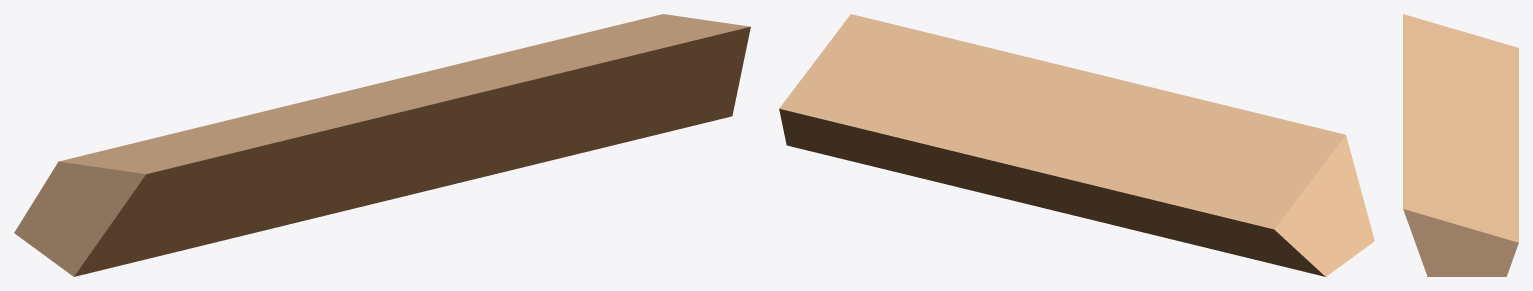
Rendered from Pine_Firewood_05_LOD.fbx.
The picture shows the model from 3 angles, left to right: view 1: azimuth 30°, elevation 25°; view 2: azimuth 150°, elevation 25°; view 3: azimuth 270°, elevation 25°; orthographic projection. The views are drawn at different scales.
Visible parts, largest first — view 1: Pine_Firewood_05_LOD0; view 2: Pine_Firewood_05_LOD0; view 3: Pine_Firewood_05_LOD0.
Part boxes in pixels (x1=…): Pine_Firewood_05_LOD0: x1=14, y1=14, x2=750, y2=276; Pine_Firewood_05_LOD0: x1=779, y1=14, x2=1374, y2=276; Pine_Firewood_05_LOD0: x1=1403, y1=14, x2=1518, y2=276.
Size of what is drawn, in the model's own units: 51.8 by 7.76 by 11.95.
